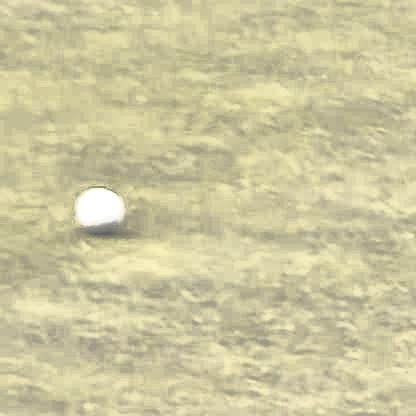golfball: (74, 184, 124, 232)
